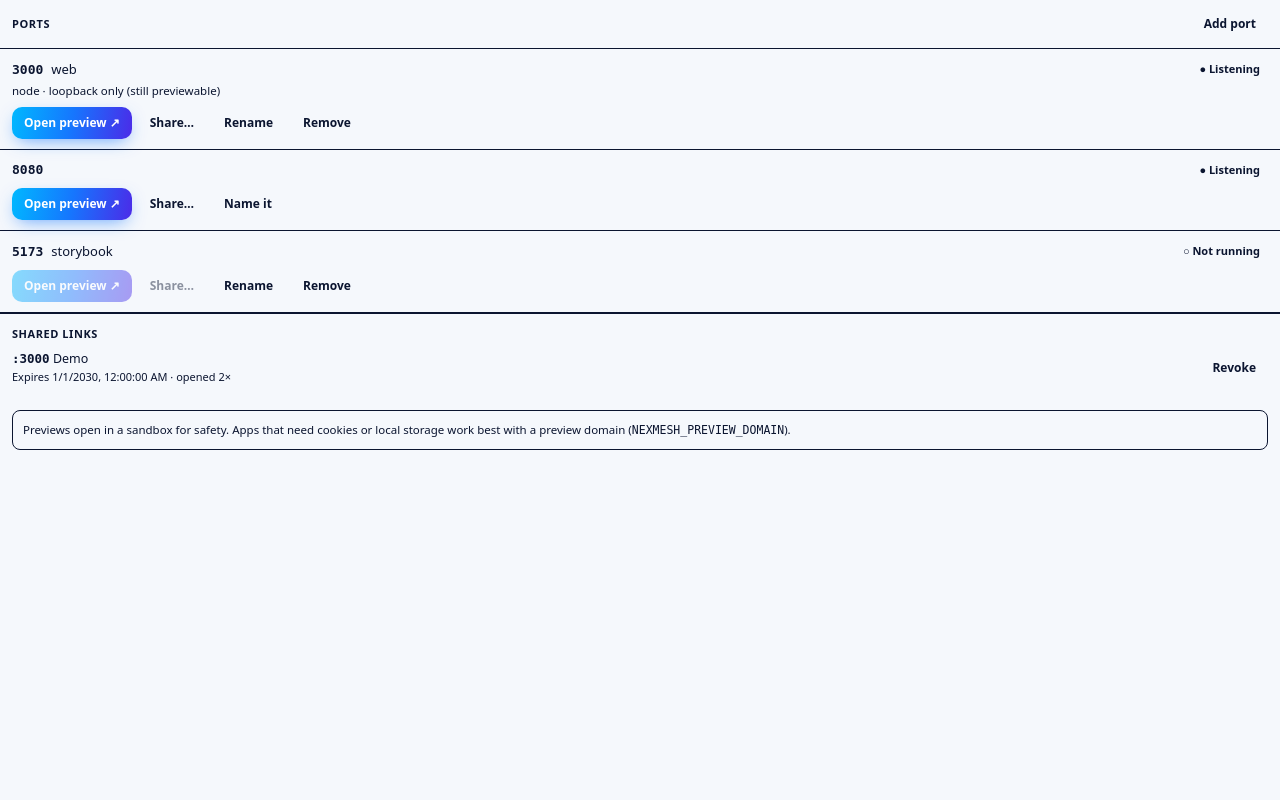
Test: Share links › creates a link with an expiry, shows the URL once and lists it for revocation
Later steps or results of the test are not shown.
Click the button with aria-label "Share port 3000" at (172, 123), box [138,107,206,139]
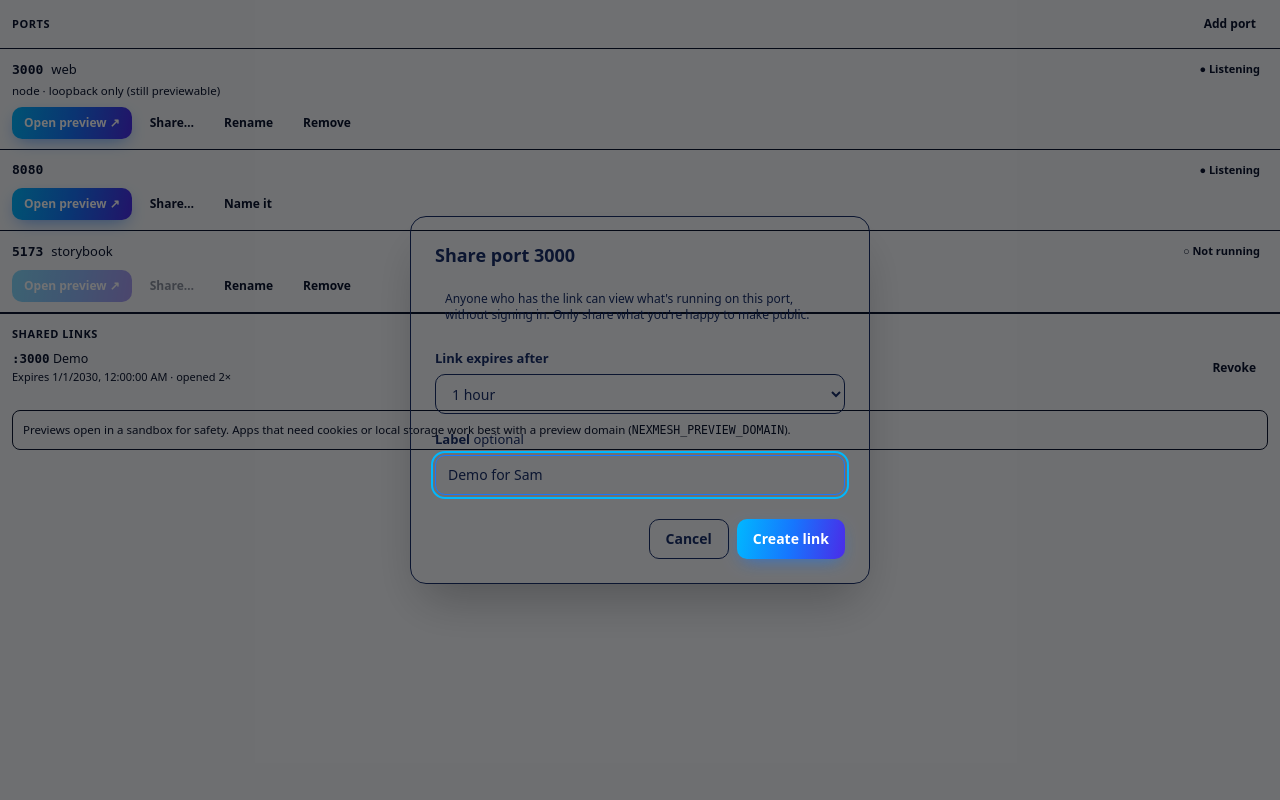
Result: the text "Anyone who has the link" is shown at [445,290,810,323]
Select "24 hours" in the dropdown labelled "Link expires after" at (640, 394), box [435,374,845,414]
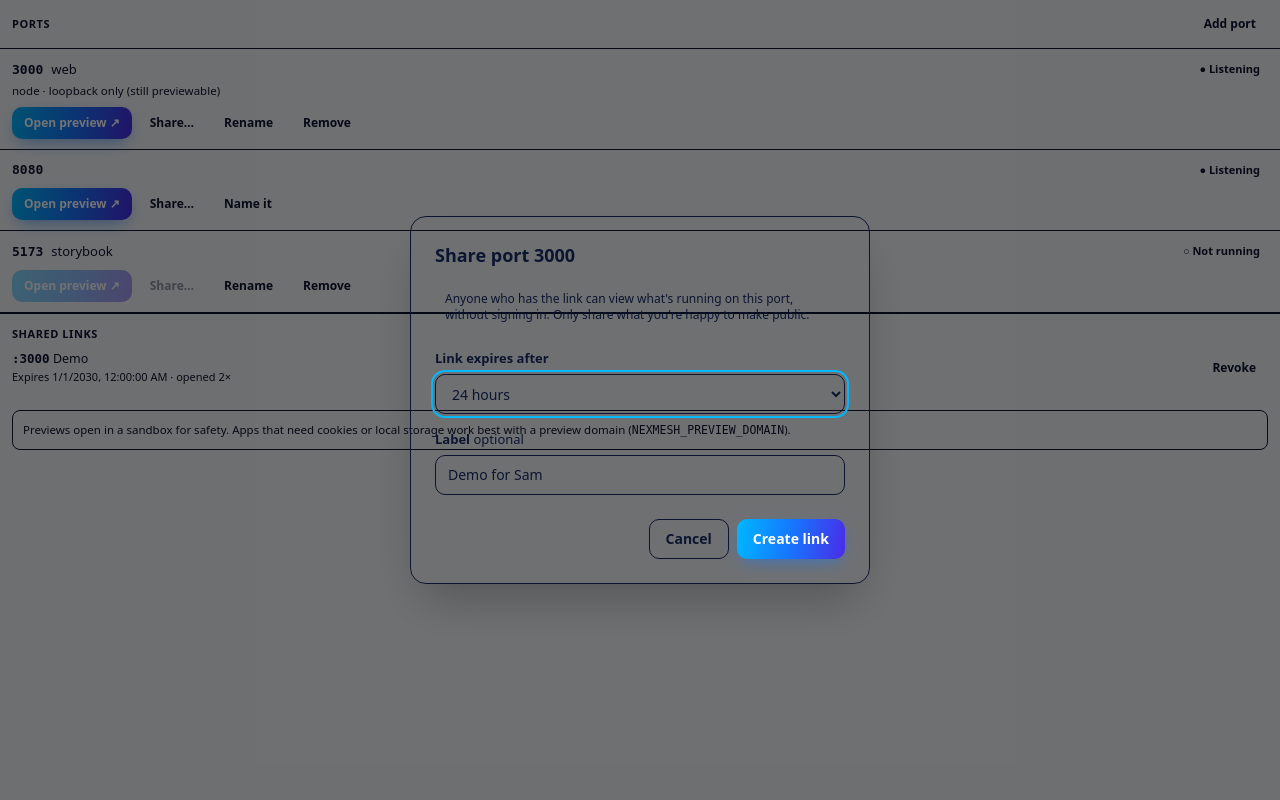
Click the button "Create link" at (791, 539), box [737,519,845,559]
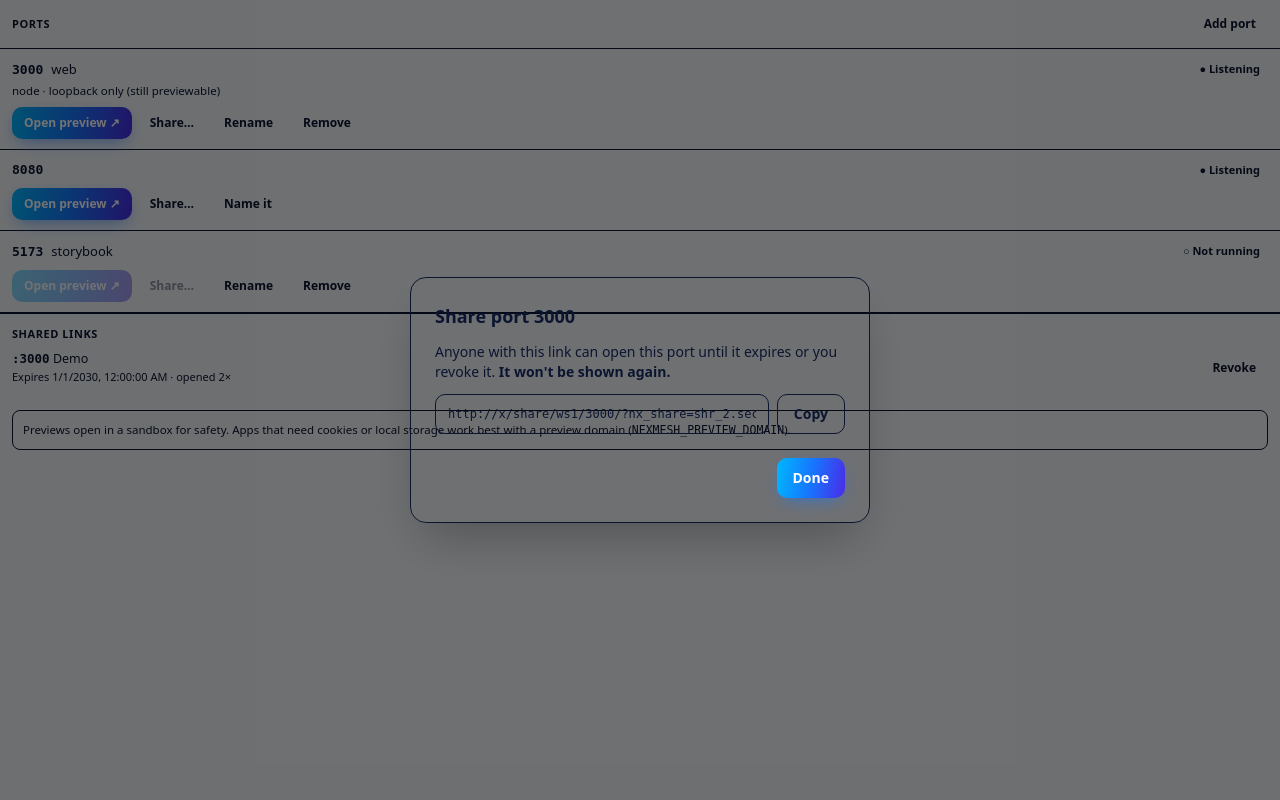
Result: the field named "Share link" holds "http://x/share/ws1/3000/?nx_share=shr_2.secret" at [435,394,769,434]
Result: the text "It won't be shown again." is shown at [499,362,670,381]
